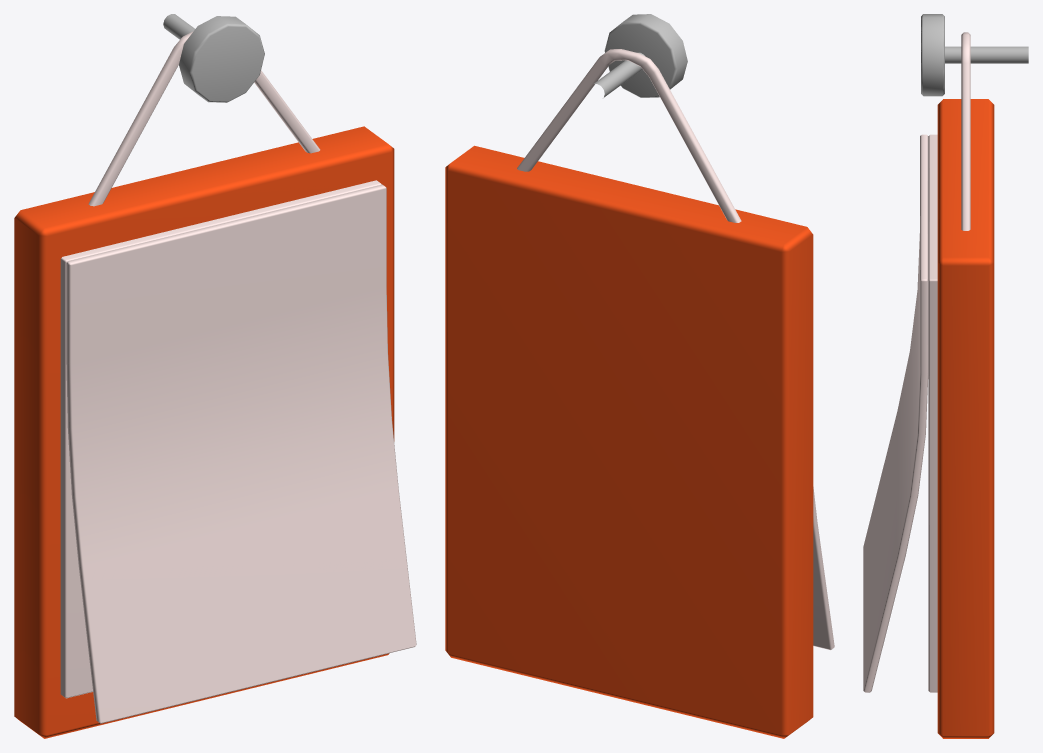
The model's file is Store_2_Menu_1.glb.
3 renders of one model, left to right at view 1: azimuth 30°, elevation 25°; view 2: azimuth 150°, elevation 25°; view 3: azimuth 270°, elevation 25°, orthographic. The views are drawn at different scales.
Parts seen in each view (by area): view 1: Store_2_Menu_1; view 2: Store_2_Menu_1; view 3: Store_2_Menu_1.
Boxes of the visible parts, <box> form: Store_2_Menu_1: <box>14,14,416,738</box>; Store_2_Menu_1: <box>445,14,834,738</box>; Store_2_Menu_1: <box>863,14,1028,738</box>.
Bounding box in the file's own units: 0.557 × 1.02 × 0.2373.
1 material, 1 textured.
